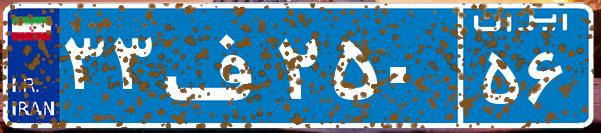0: (385, 28, 445, 110)
2: (273, 28, 330, 110)
3: (57, 26, 110, 107), (110, 28, 158, 105)
5: (330, 28, 385, 110), (475, 38, 525, 113)
6: (525, 38, 570, 115)
ف: (158, 15, 273, 115)
